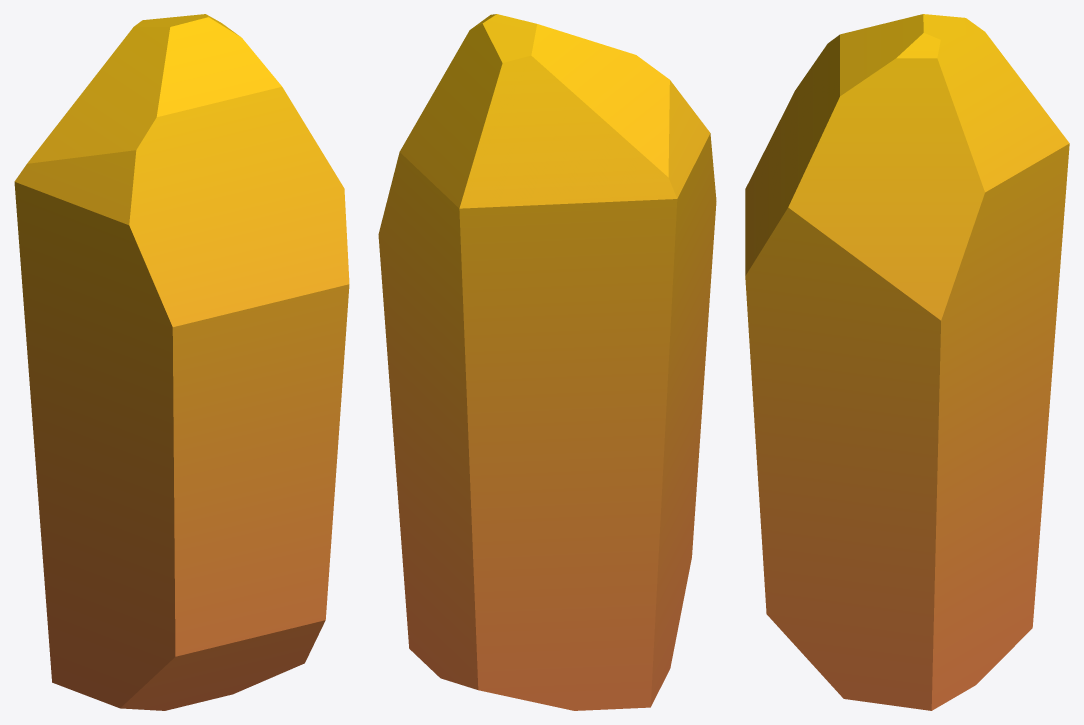
File: Crystal_04.fbx
3 renders of one model, left to right at view 1: azimuth 30°, elevation 25°; view 2: azimuth 150°, elevation 25°; view 3: azimuth 270°, elevation 25°, orthographic. The views are drawn at different scales.
Visible parts, largest first — view 1: Crystal_04; view 2: Crystal_04; view 3: Crystal_04.
Boxes of the visible parts, bbox=[...] form: Crystal_04: bbox=[14, 14, 349, 710]; Crystal_04: bbox=[378, 14, 716, 710]; Crystal_04: bbox=[745, 14, 1069, 710].
Bounding box in the file's own units: 0.8444 × 1.83 × 0.8078.
